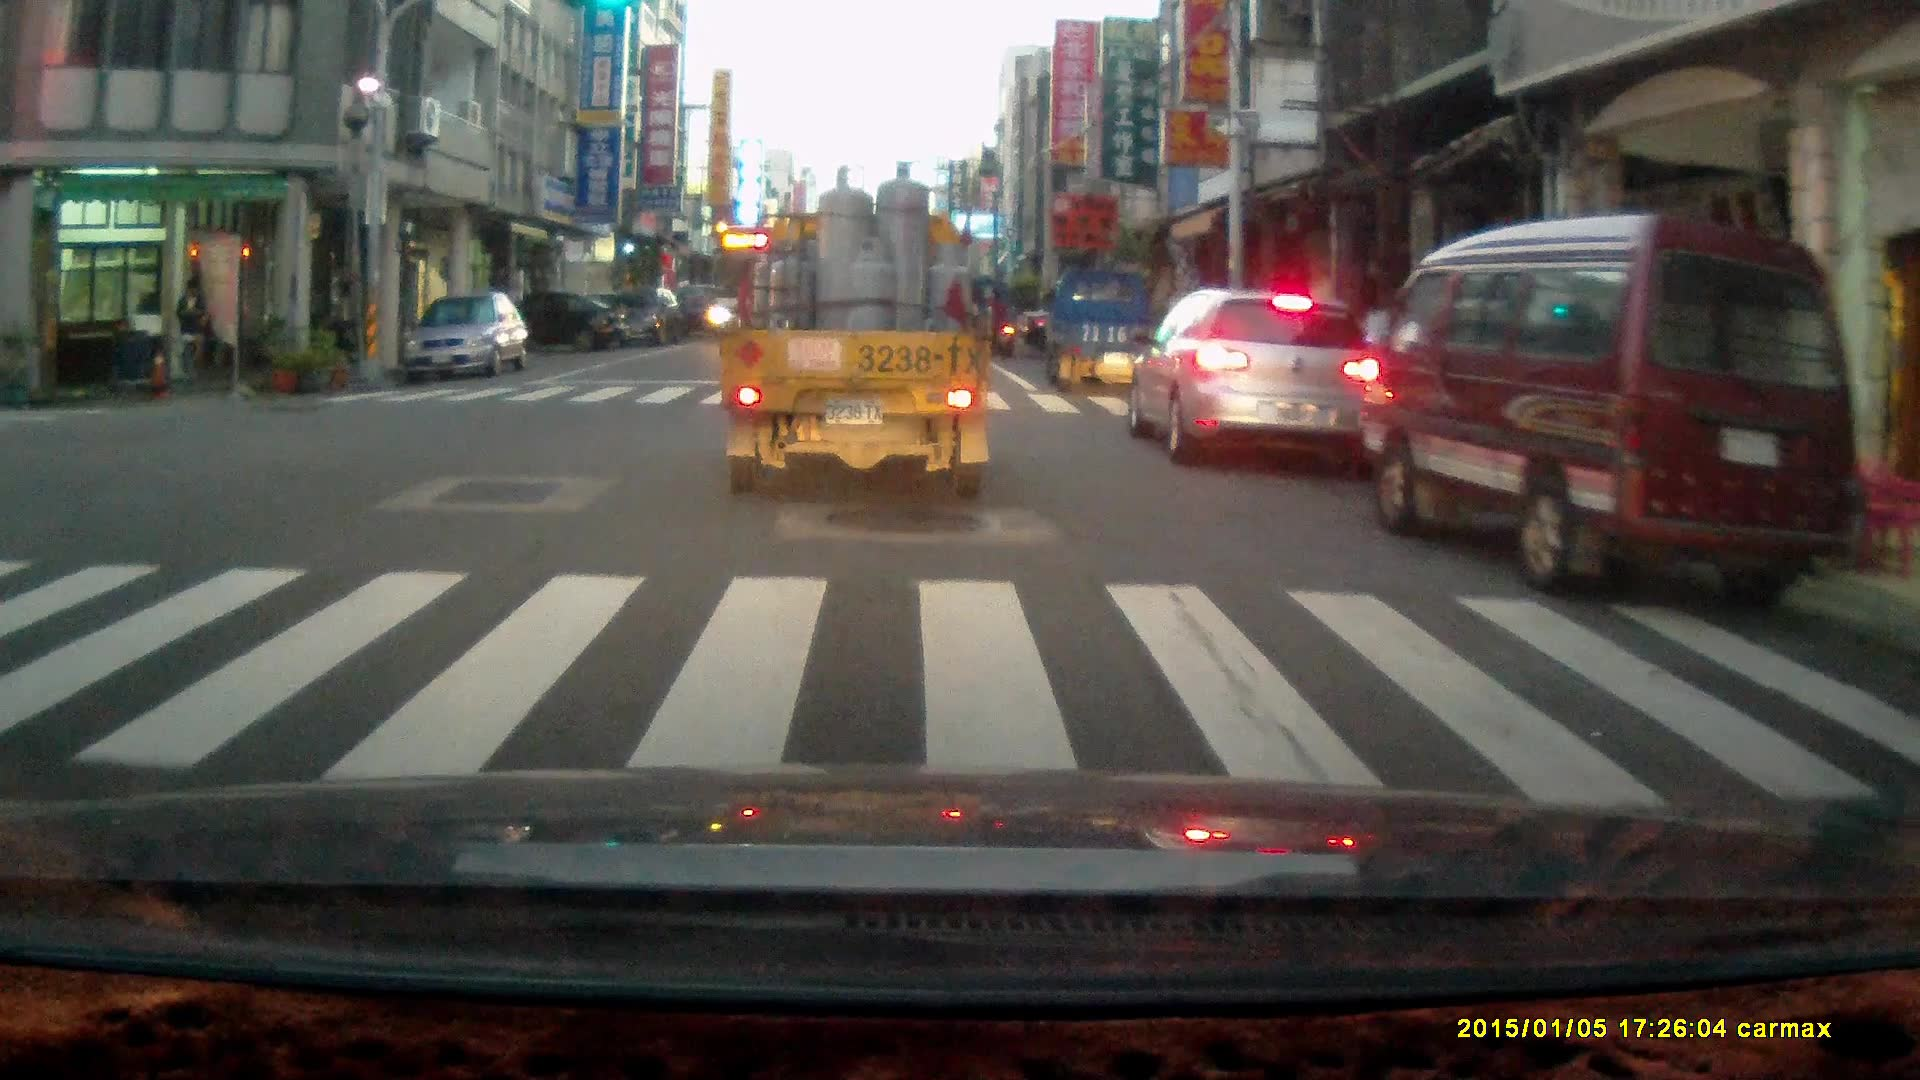pedestrian: (175, 273, 210, 392)
vehicle: (1364, 212, 1866, 612), (721, 164, 995, 506), (1128, 288, 1373, 476), (1047, 272, 1179, 407), (400, 291, 526, 384), (468, 294, 625, 362), (585, 287, 686, 348)
